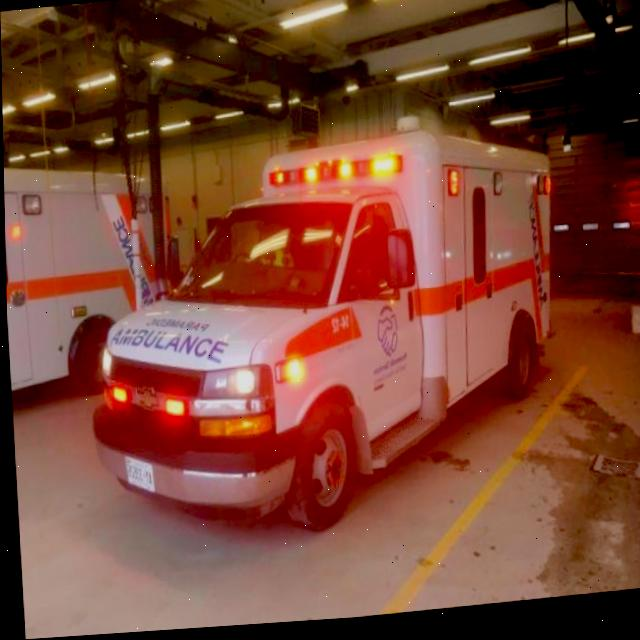emergency: (70, 118, 573, 563), (3, 149, 170, 410)
